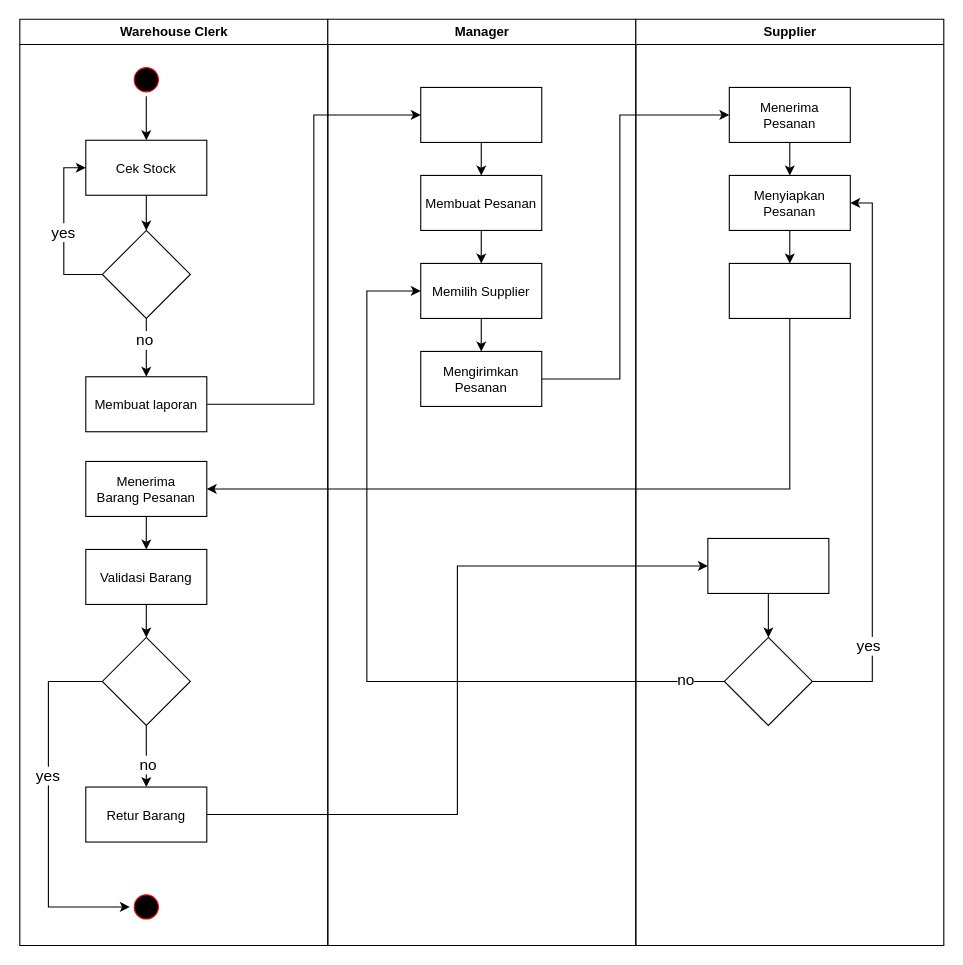
Some shapes in this 963 by 965 pixel diagram are drawn without their labels. The shapes that lost their labels are listed below. From the top down, each one's centre as x and y in pixels, then its label:
pixel 481 114: Menerima Laporan
pixel 145 273: Barang Cukup
pixel 789 290: Mengirimkan Barang Pesanan
pixel 768 565: Menerima Barang
pixel 145 680: Barang Sesuai
pixel 767 680: Barang tersedia
